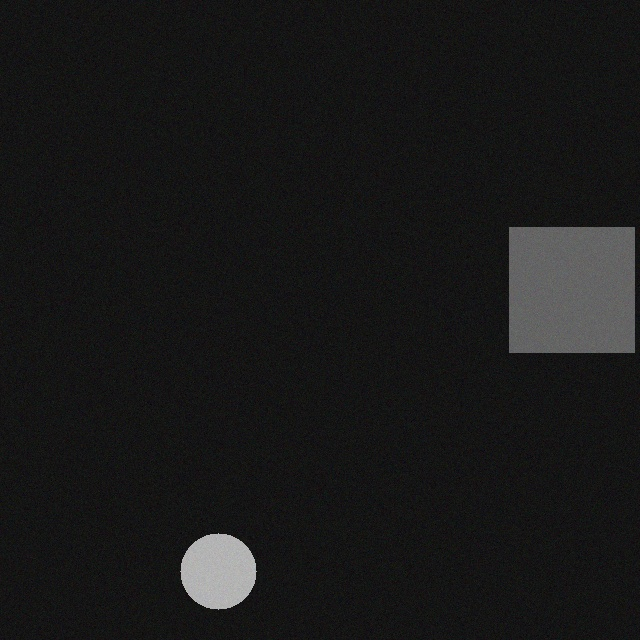circle: (171, 520, 247, 596)
square: (500, 214, 625, 339)
